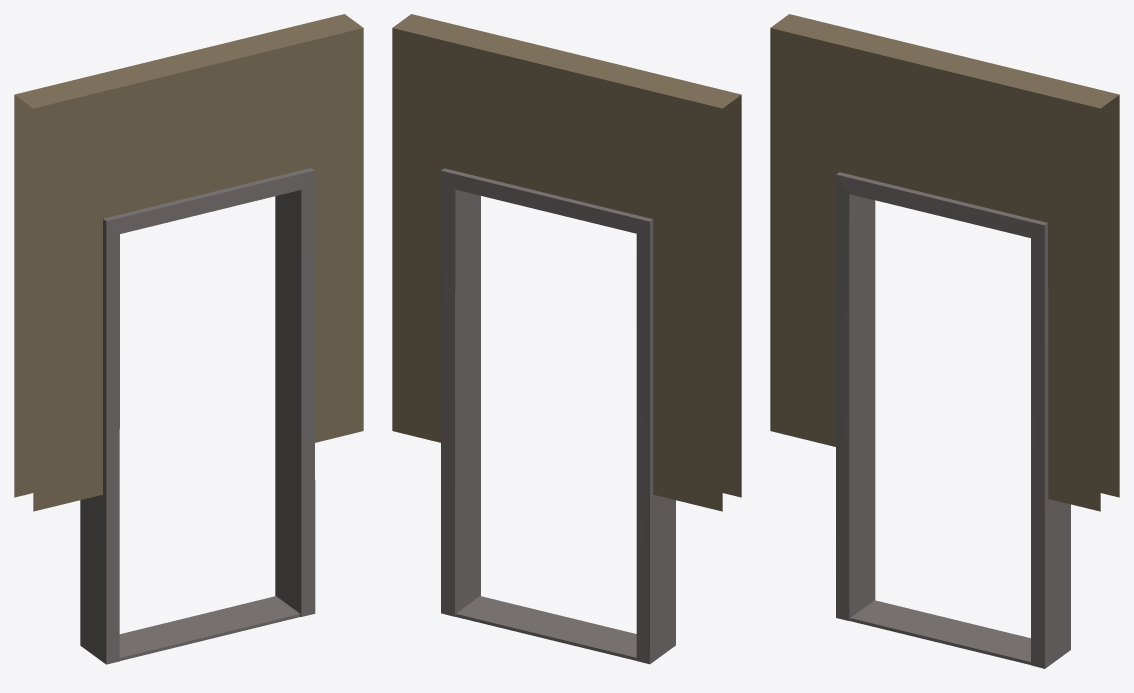
The model's file is SM_DoorFrame_A2_200.fbx.
The picture shows the model from 3 angles, left to right: view 1: azimuth 30°, elevation 25°; view 2: azimuth 150°, elevation 25°; view 3: azimuth 330°, elevation 25°; orthographic projection.
Parts seen in each view (by area): view 1: SM_DoorFrame_A2_200; view 2: SM_DoorFrame_A2_200; view 3: SM_DoorFrame_A2_200.
Part boxes in pixels (x1,y1,x2,y2): SM_DoorFrame_A2_200: [14, 14, 363, 664]; SM_DoorFrame_A2_200: [392, 14, 741, 664]; SM_DoorFrame_A2_200: [770, 14, 1119, 668].
Size of the model in its own units: 200 by 330 by 27.36.
Materials: 4 (4 with a texture image).
